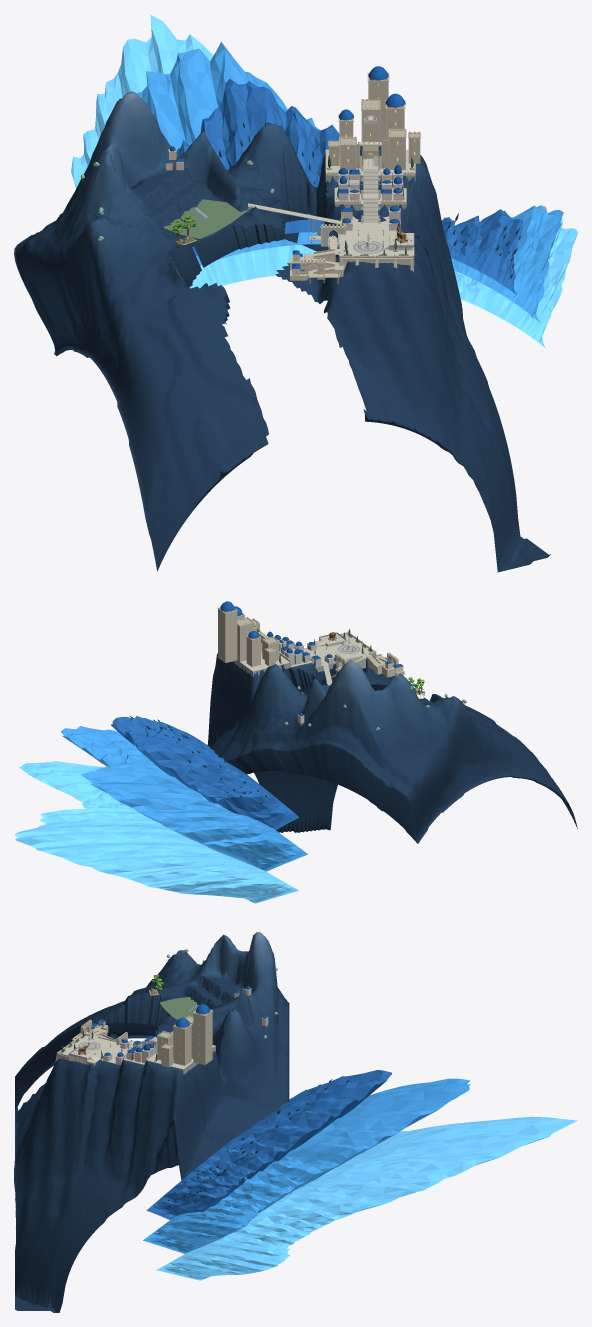
File: citadel-common-frame-candidate.glb
3 renders of one model, top to bottom at view 1: azimuth 30°, elevation 25°; view 2: azimuth 150°, elevation 25°; view 3: azimuth 270°, elevation 25°, orthographic. The views are drawn at different scales.
Parts seen in each view (by area): view 1: citadel-oskar-grid-mountain-surface, citadel-backdrop-ridge-far, citadel-backdrop-ridge-mid, citadel-backdrop-ridge-near, citadel-coastal-cliff-seal, target-castle-exterior (×3), highland-town-foundation-platform, west-city-plaza-deck, front-harbor-walkable; view 2: citadel-oskar-grid-mountain-surface, citadel-backdrop-ridge-far, citadel-backdrop-ridge-mid, citadel-backdrop-ridge-near, target-castle-exterior, citadel-coastal-cliff-seal, west-city-plaza-deck, front-harbor-walkable; view 3: citadel-oskar-grid-mountain-surface, citadel-backdrop-ridge-far, citadel-backdrop-ridge-mid, citadel-backdrop-ridge-near, target-castle-exterior, citadel-coastal-cliff-seal, highland-town-foundation-platform, west-city-plaza-deck.
Part boxes in pixels (x1,y1,x2,y2): citadel-oskar-grid-mountain-surface: (14,91,550,572); citadel-backdrop-ridge-far: (71,14,577,348); citadel-backdrop-ridge-mid: (136,42,563,322); citadel-backdrop-ridge-near: (172,79,523,296); citadel-coastal-cliff-seal: (166,143,337,324); target-castle-exterior (×3): (328,72,420,170); highland-town-foundation-platform: (163,199,253,238); west-city-plaza-deck: (339,233,414,258); front-harbor-walkable: (290,250,344,280); citadel-oskar-grid-mountain-surface: (207,648,577,843); citadel-backdrop-ridge-far: (14,761,298,903); citadel-backdrop-ridge-mid: (60,726,307,871); citadel-backdrop-ridge-near: (111,716,299,829); target-castle-exterior: (218,608,278,666); citadel-coastal-cliff-seal: (259,660,440,702); west-city-plaza-deck: (313,634,374,662); front-harbor-walkable: (363,653,404,677); citadel-oskar-grid-mountain-surface: (14,932,289,1312); citadel-backdrop-ridge-far: (156,1116,577,1280); citadel-backdrop-ridge-mid: (143,1078,470,1253); citadel-backdrop-ridge-near: (146,1070,391,1219); target-castle-exterior: (157,1010,212,1067); citadel-coastal-cliff-seal: (92,992,223,1058); highland-town-foundation-platform: (160,997,198,1020); west-city-plaza-deck: (57,1035,118,1063).
Size of the model in its own units: 330 by 217 by 378.
Materials: 145 (2 with a texture image).
